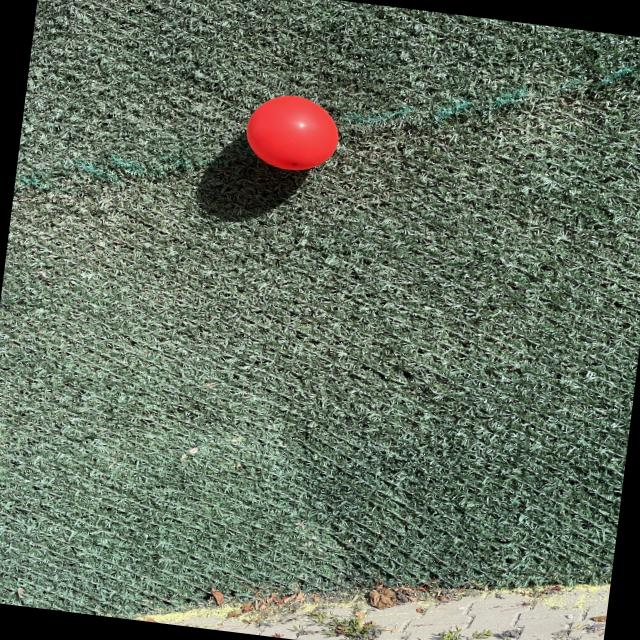balloon: (246, 95, 338, 169)
